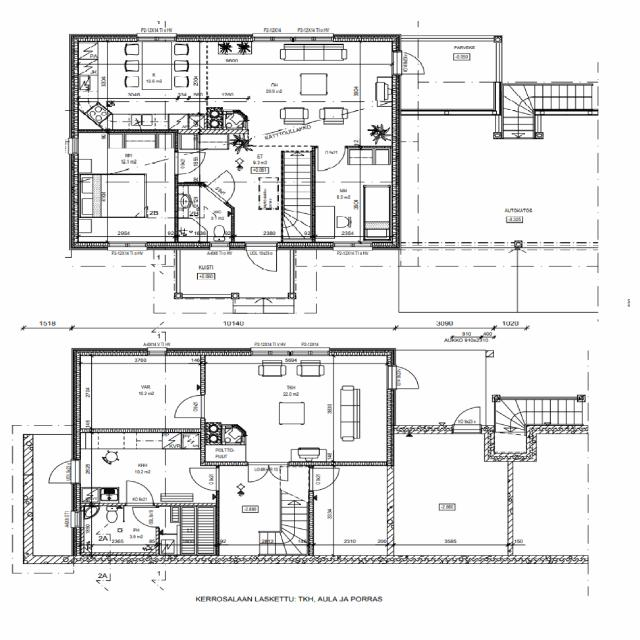door: (205, 170, 244, 203), (245, 242, 277, 276), (452, 402, 480, 434), (44, 460, 80, 483), (387, 365, 423, 388), (392, 52, 428, 74), (308, 468, 340, 491), (318, 145, 345, 172), (126, 480, 154, 506), (189, 468, 220, 490), (174, 395, 204, 417), (174, 152, 204, 174), (133, 507, 159, 527), (248, 462, 268, 482), (268, 462, 286, 482)
